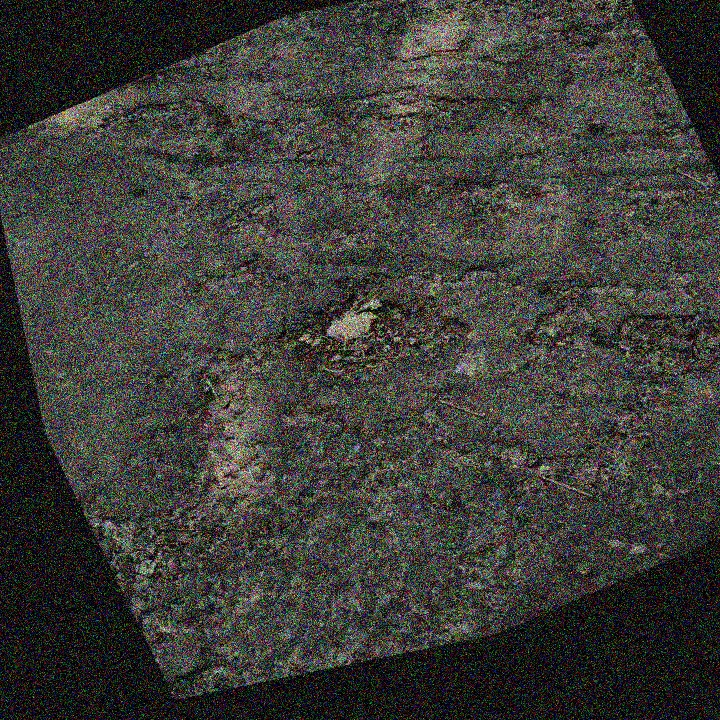pothole: (259, 247, 487, 422), (405, 0, 642, 88), (505, 267, 623, 353), (597, 292, 693, 369), (206, 183, 299, 260)
